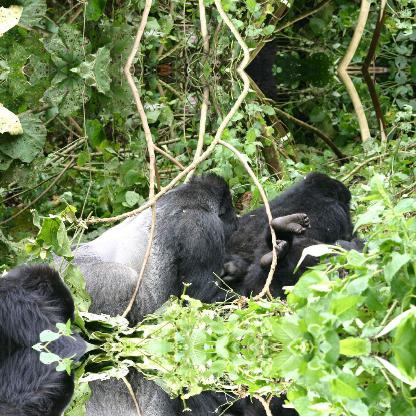Monkey: (51, 169, 247, 325), (225, 168, 367, 300), (51, 367, 248, 415), (0, 261, 89, 346), (0, 347, 89, 415)
